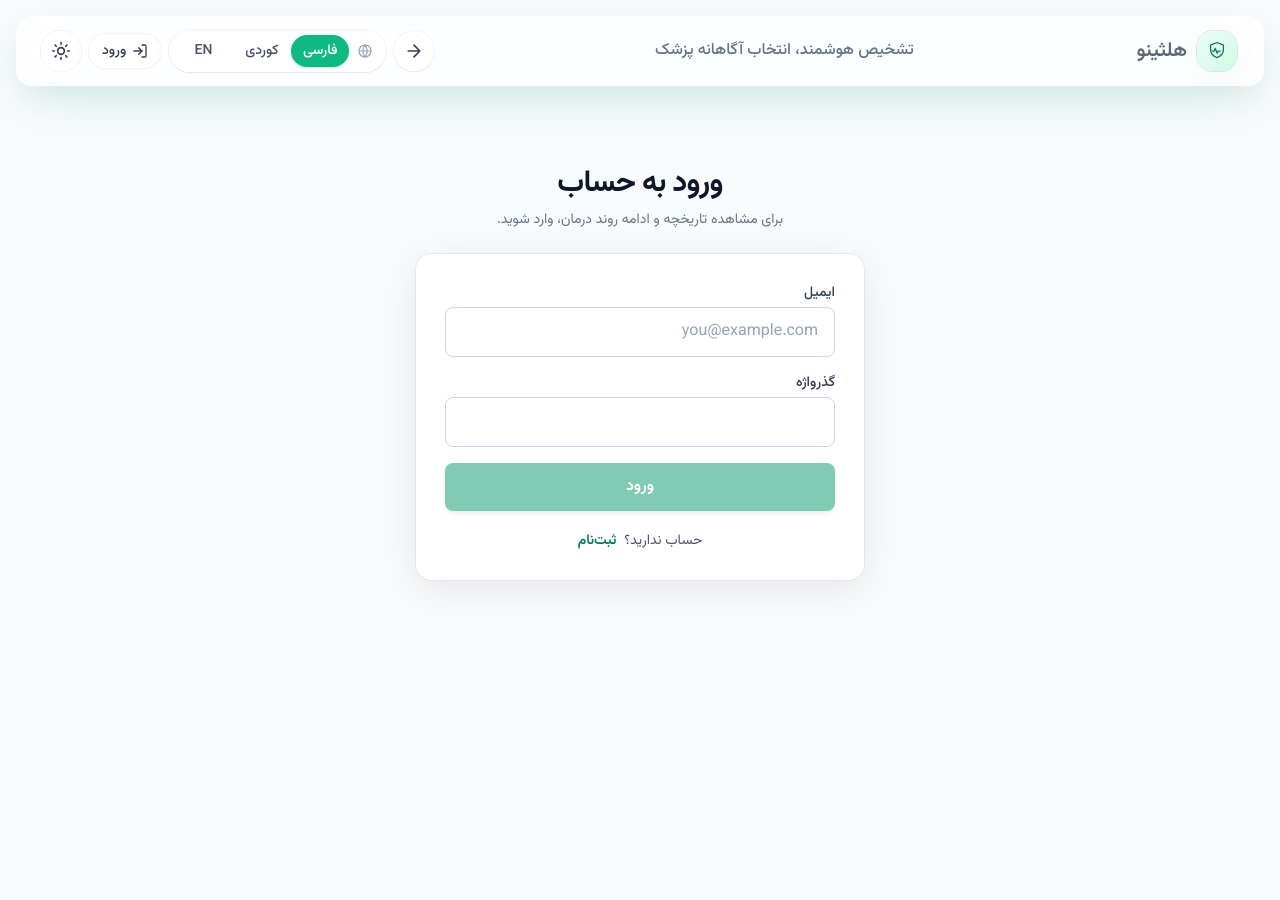
Test: Toast — Login flow › shows the success toast after a successful login
Type "a@b.io" into the field with test id "login-email" at (640, 332), box left=445, top=307, right=835, bottom=357
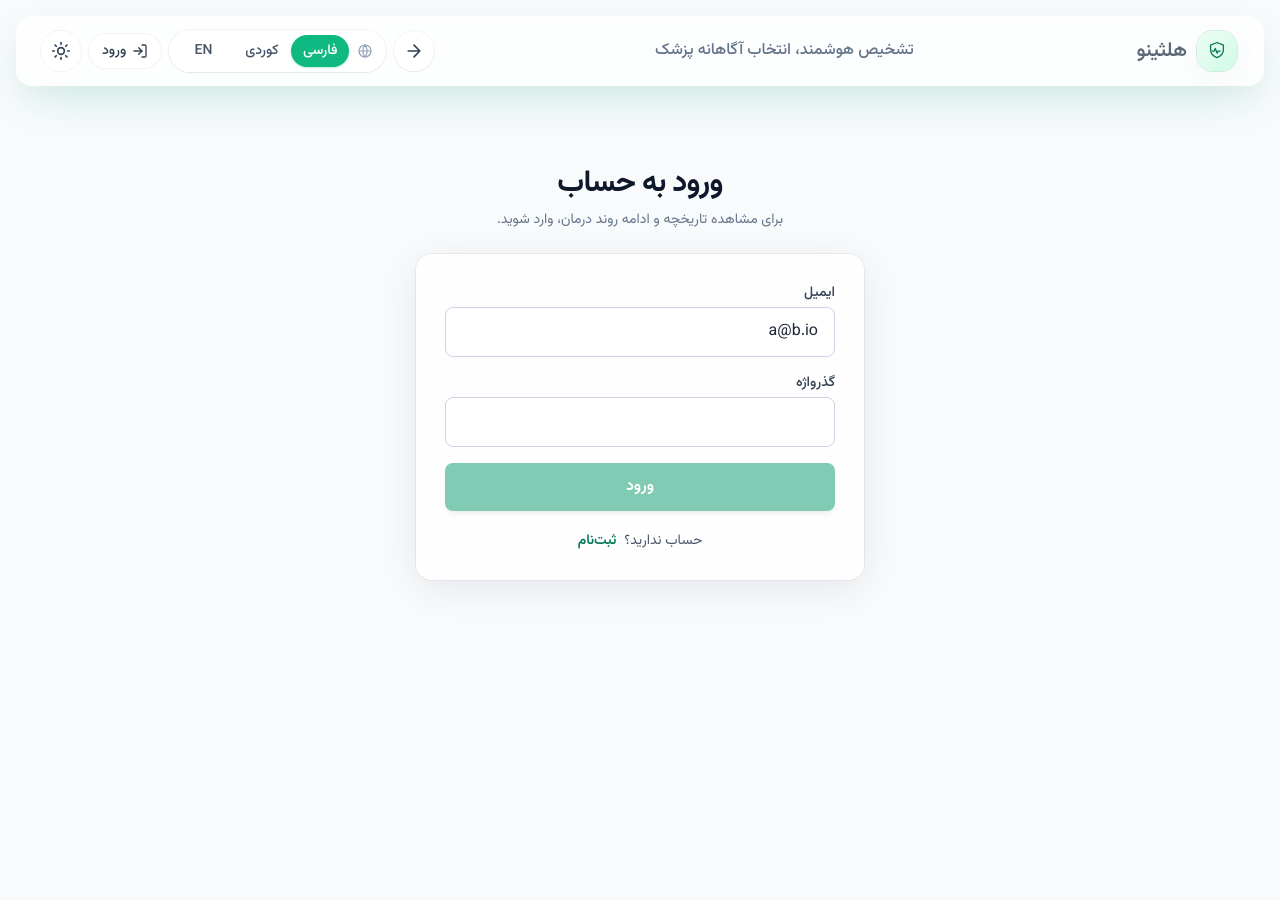
Type "secret123" into the password field with test id "login-password" at (640, 422), box left=445, top=397, right=835, bottom=447
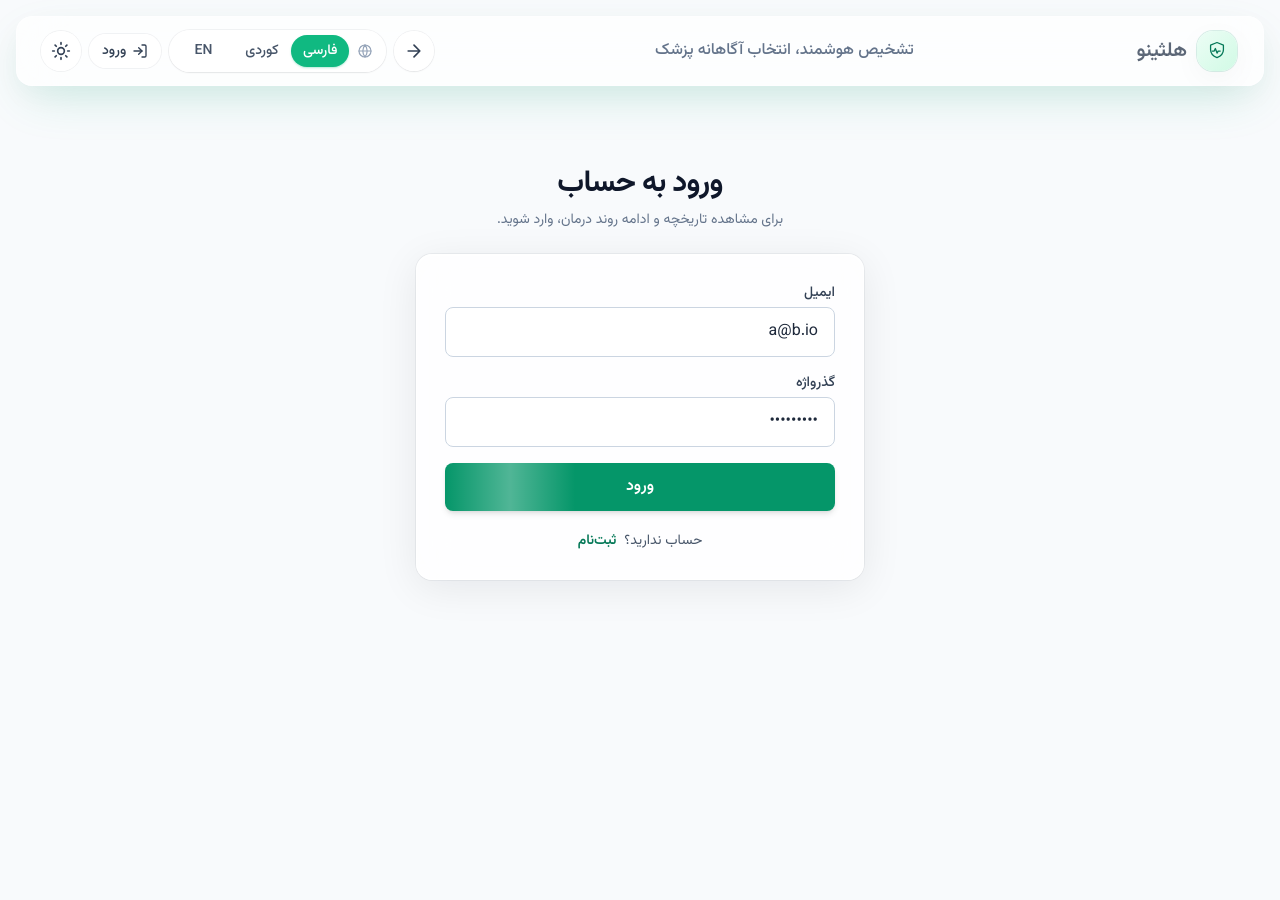
Submit the form, box left=445, top=283, right=835, bottom=511
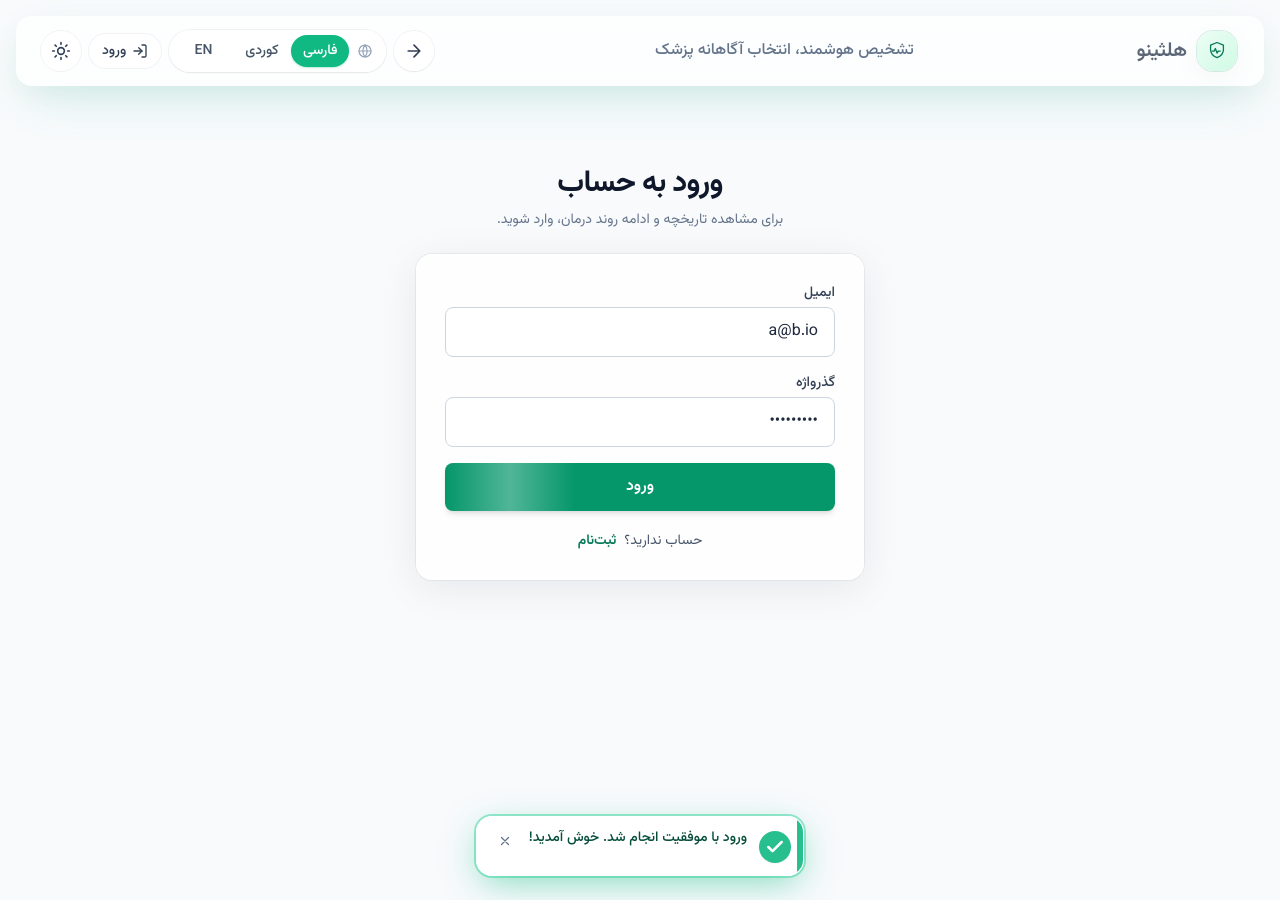
Check: the message "ورود با موفقیت انجام شد. خوش آمدید!" is shown, box left=476, top=816, right=804, bottom=876
